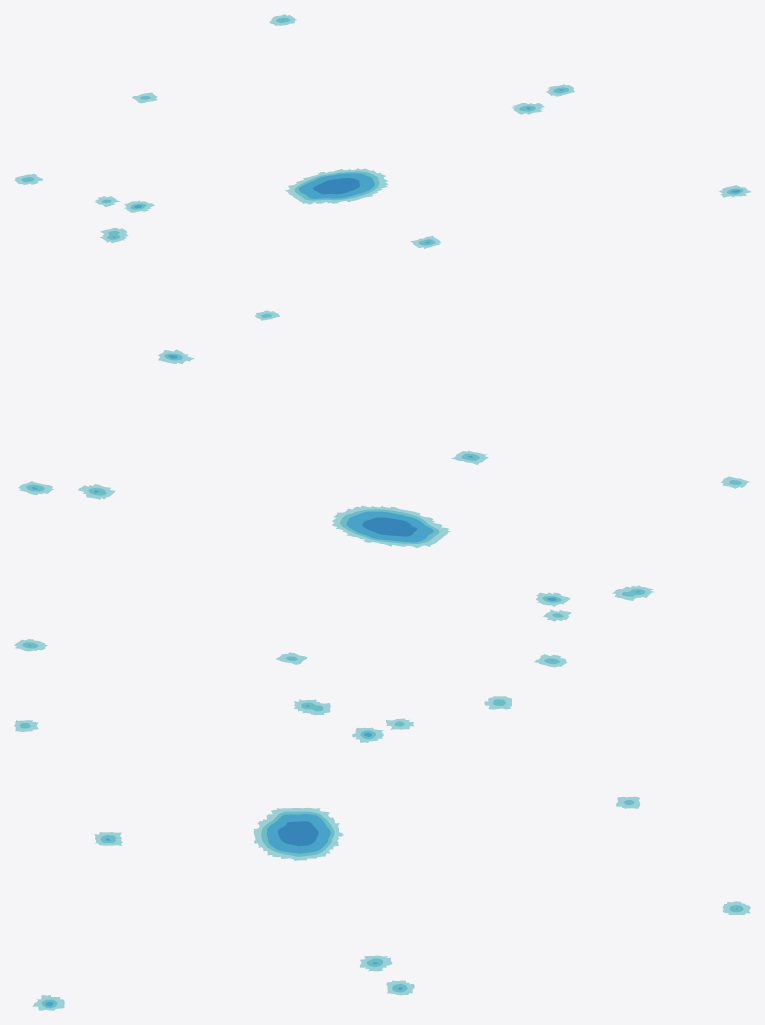
The model's file is Dungeon-1B-Water.fbx.
3 views of the same model, one above another, from view 1: azimuth 30°, elevation 25°; view 2: azimuth 150°, elevation 25°; view 3: azimuth 270°, elevation 25° (orthographic). The views are drawn at different scales.
Visible parts, largest first — view 1: Dungeon-1B-Water; view 2: Dungeon-1B-Water; view 3: Dungeon-1B-Water.
Part boxes in pixels (box(x1,y1,x2,y2)): Dungeon-1B-Water: box(14, 14, 750, 320); Dungeon-1B-Water: box(14, 349, 750, 667); Dungeon-1B-Water: box(14, 696, 750, 1010).
Size of the model in its own units: 74 by 0 by 73.26.
